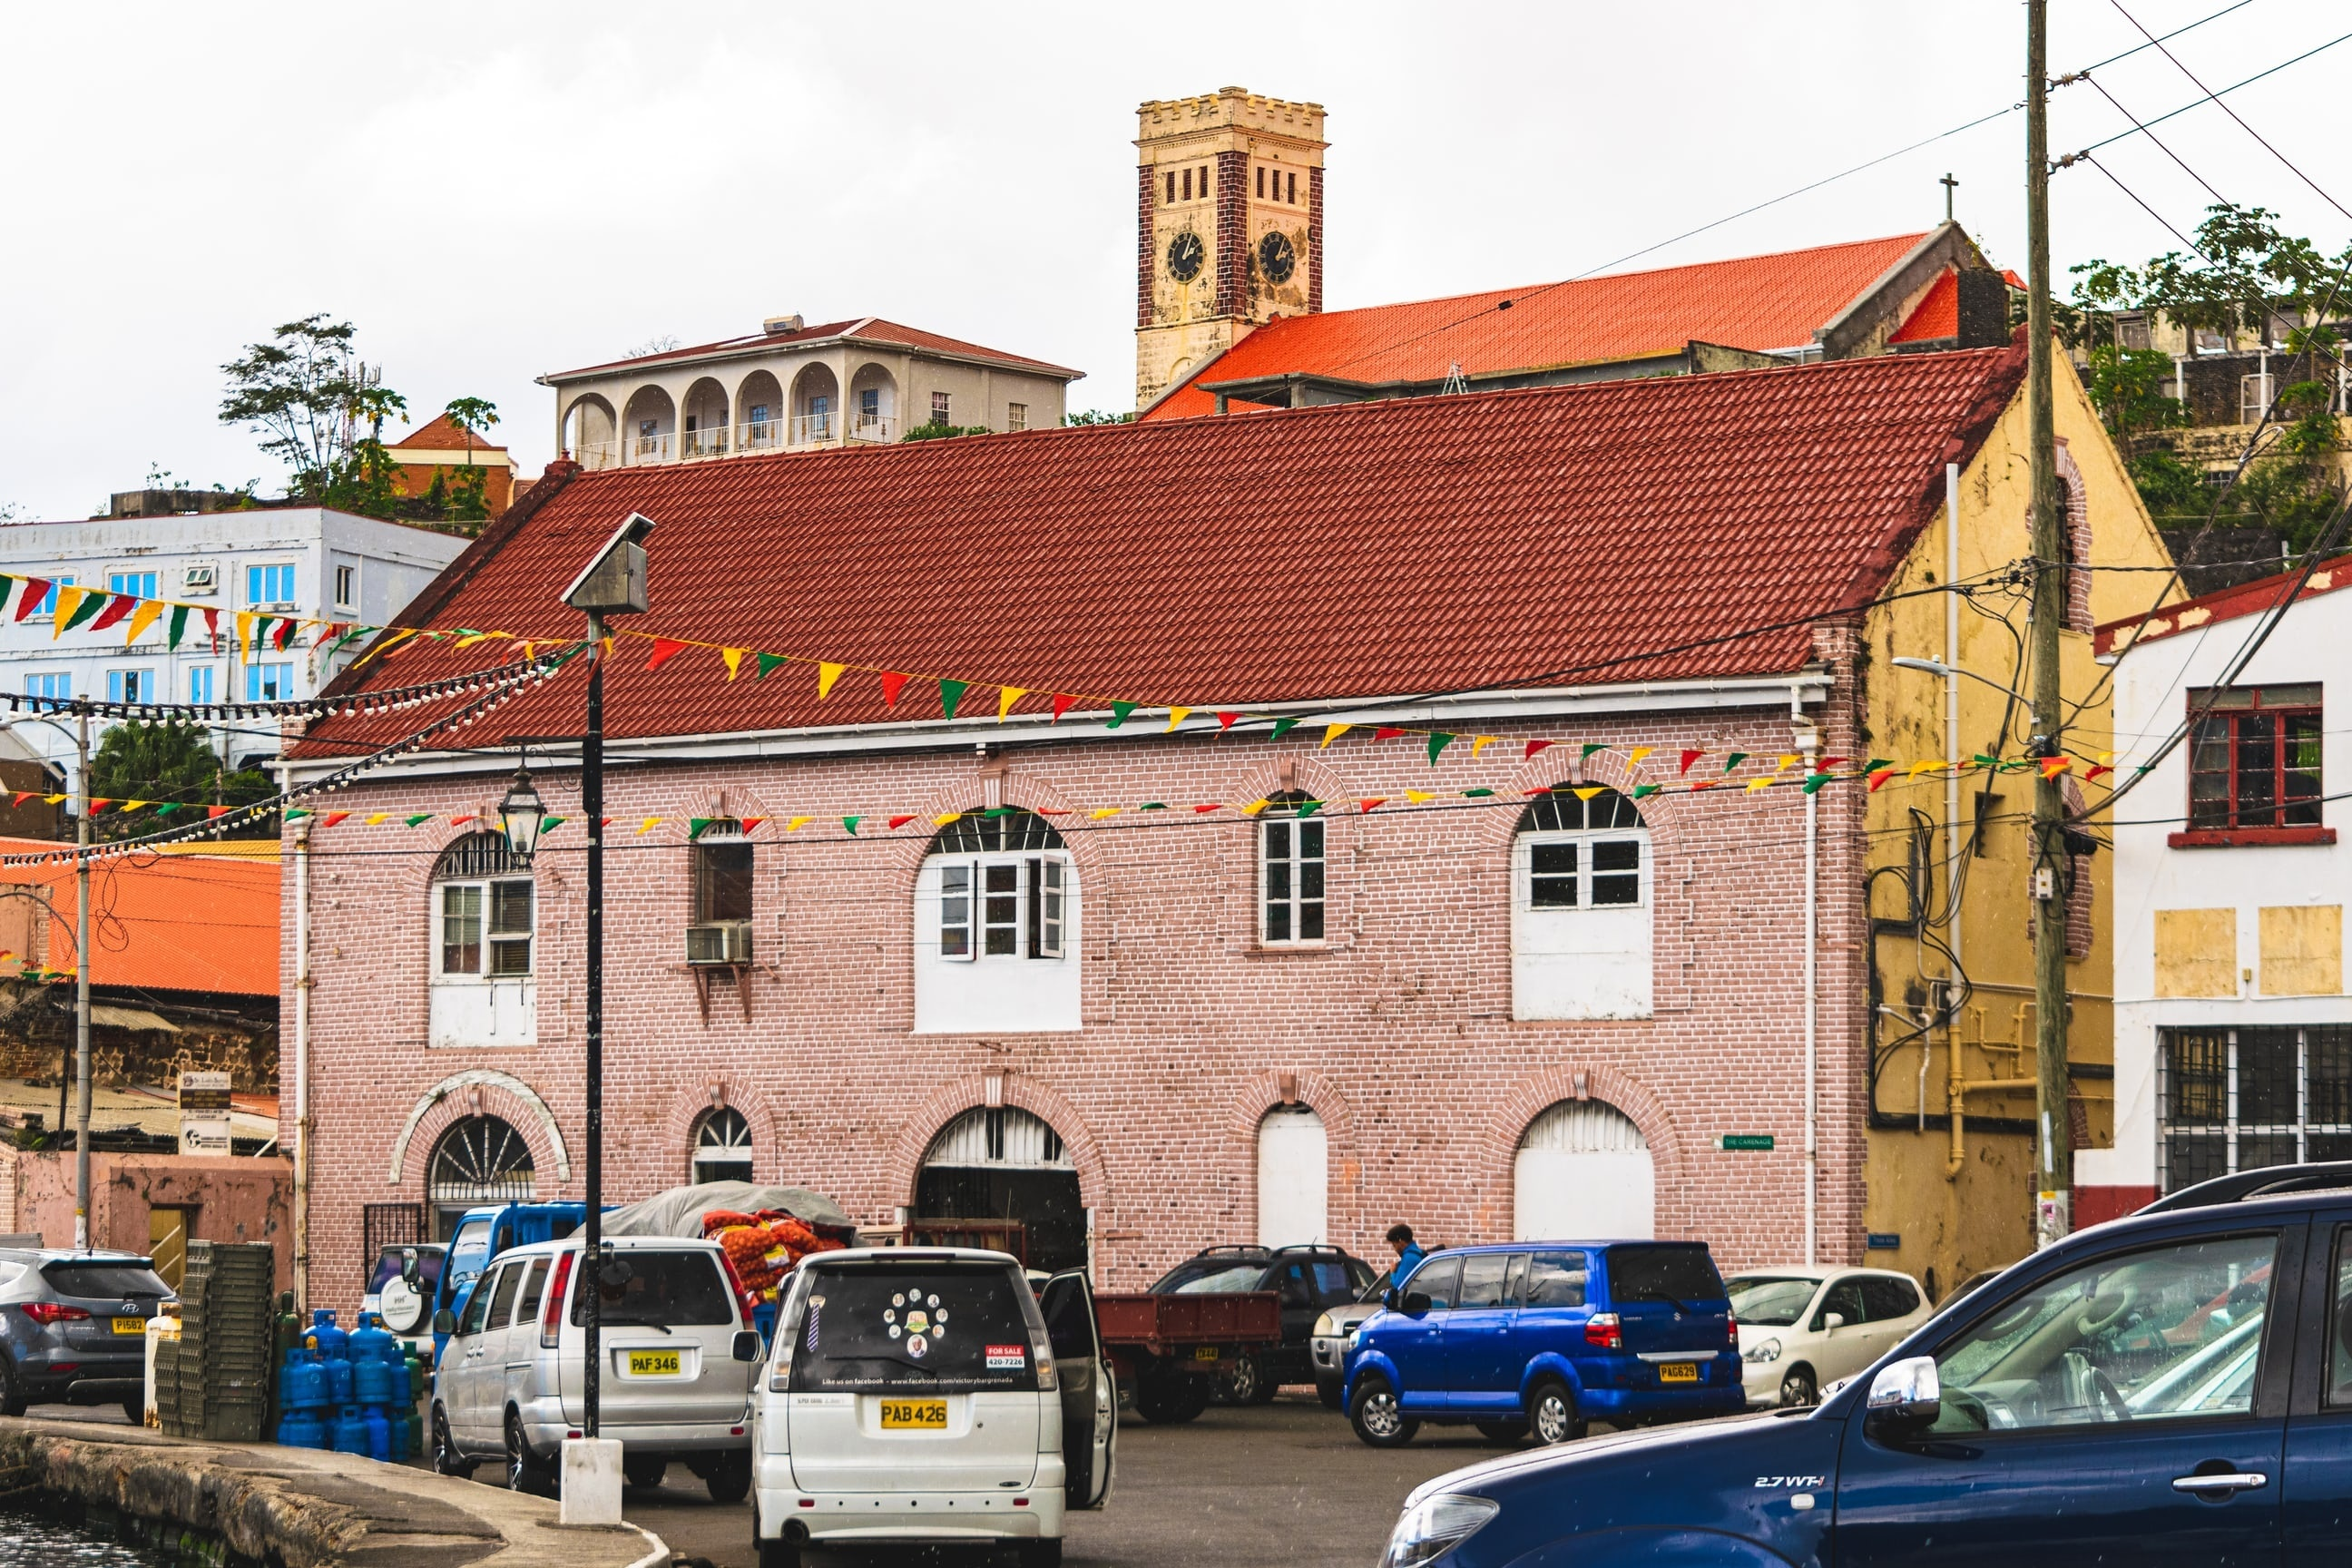plaka: (879, 1397, 948, 1427), (629, 1350, 681, 1377)
